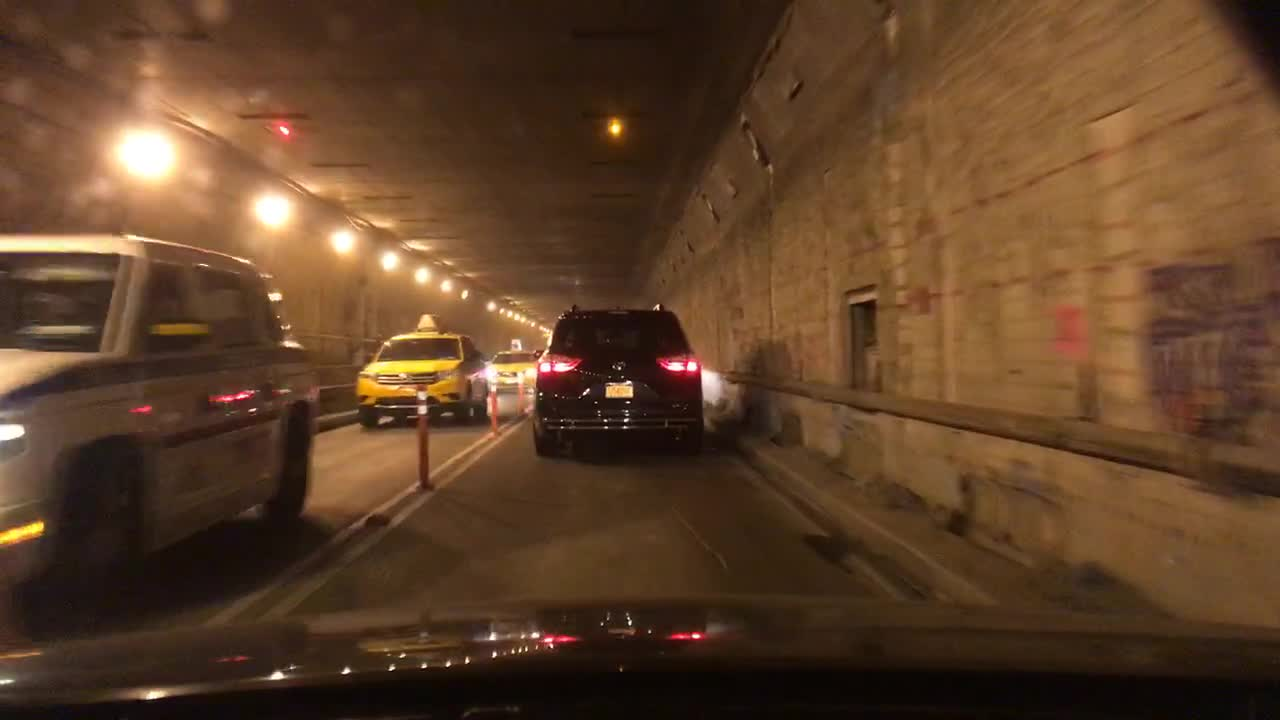car: (0, 228, 317, 605), (529, 300, 706, 459), (353, 309, 495, 426), (487, 337, 539, 403)
